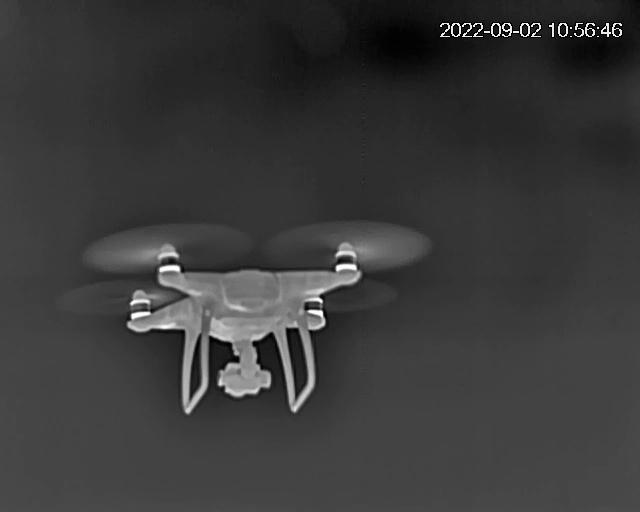DJI-Phantom: (108, 238, 377, 413)
